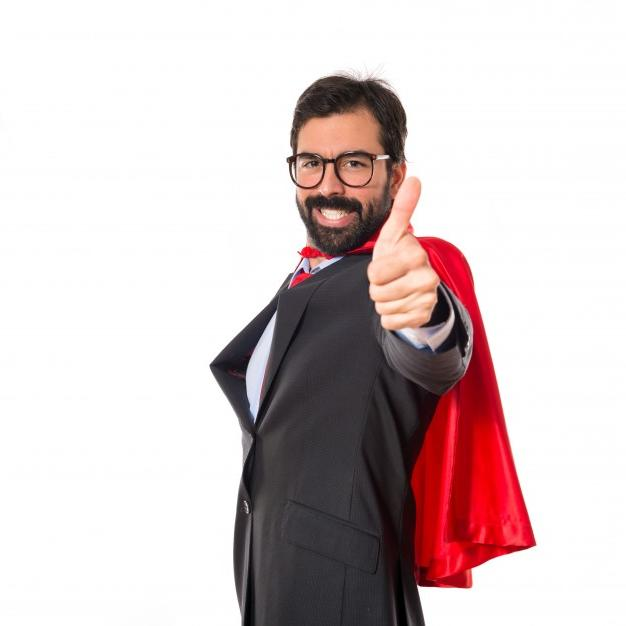thumbsup: (367, 176, 441, 330)
